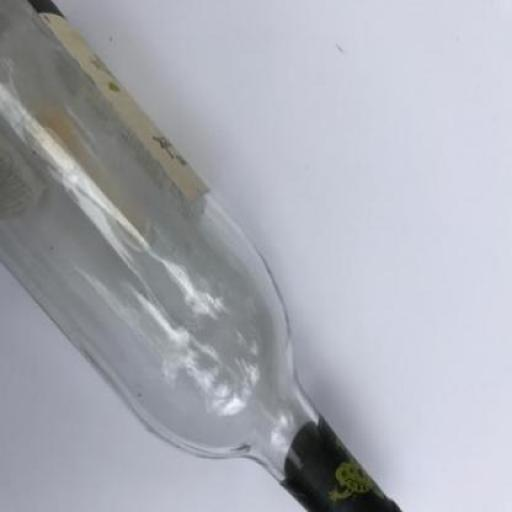glass: (0, 1, 404, 511)
